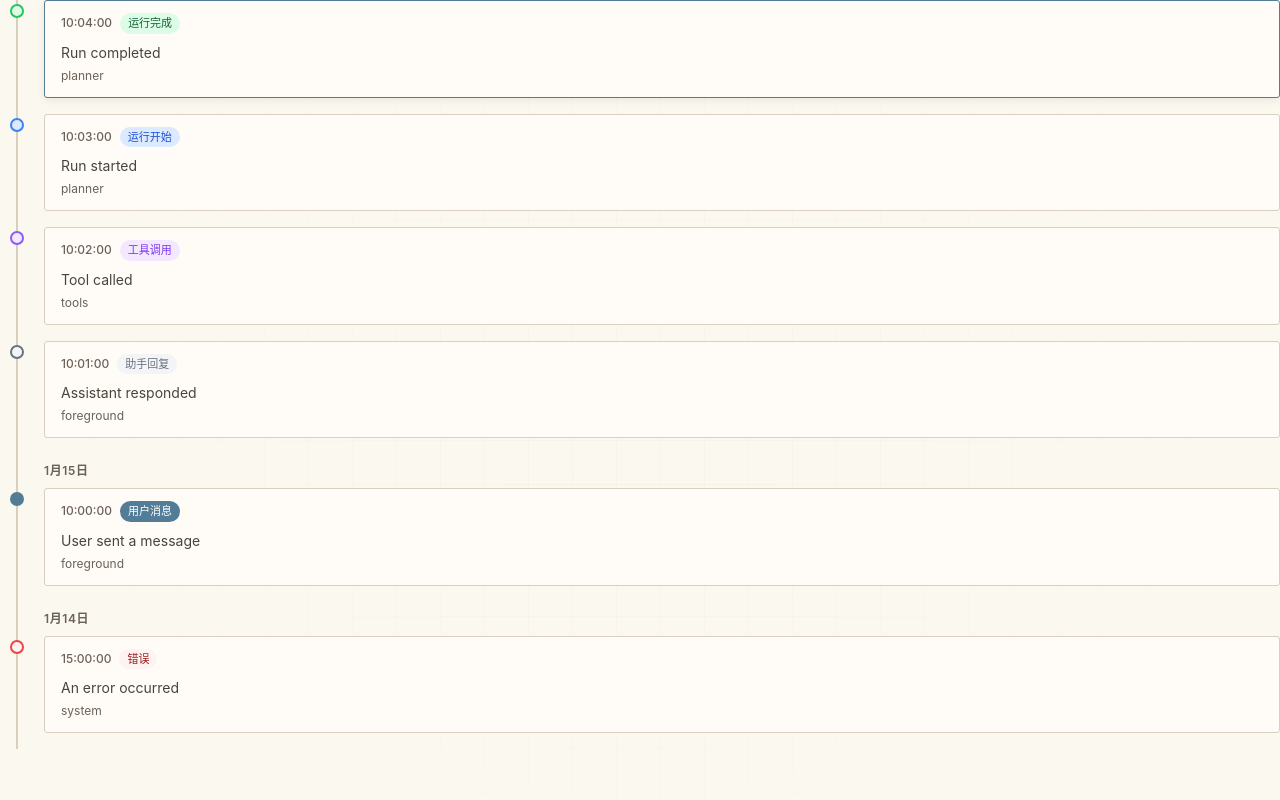
Test: TimelineView › expands event details when clicked
This screenshot has width=1280, height=800.
Click the button with test id "timeline-event-e1" at (640, 545), box [0,488,1279,602]
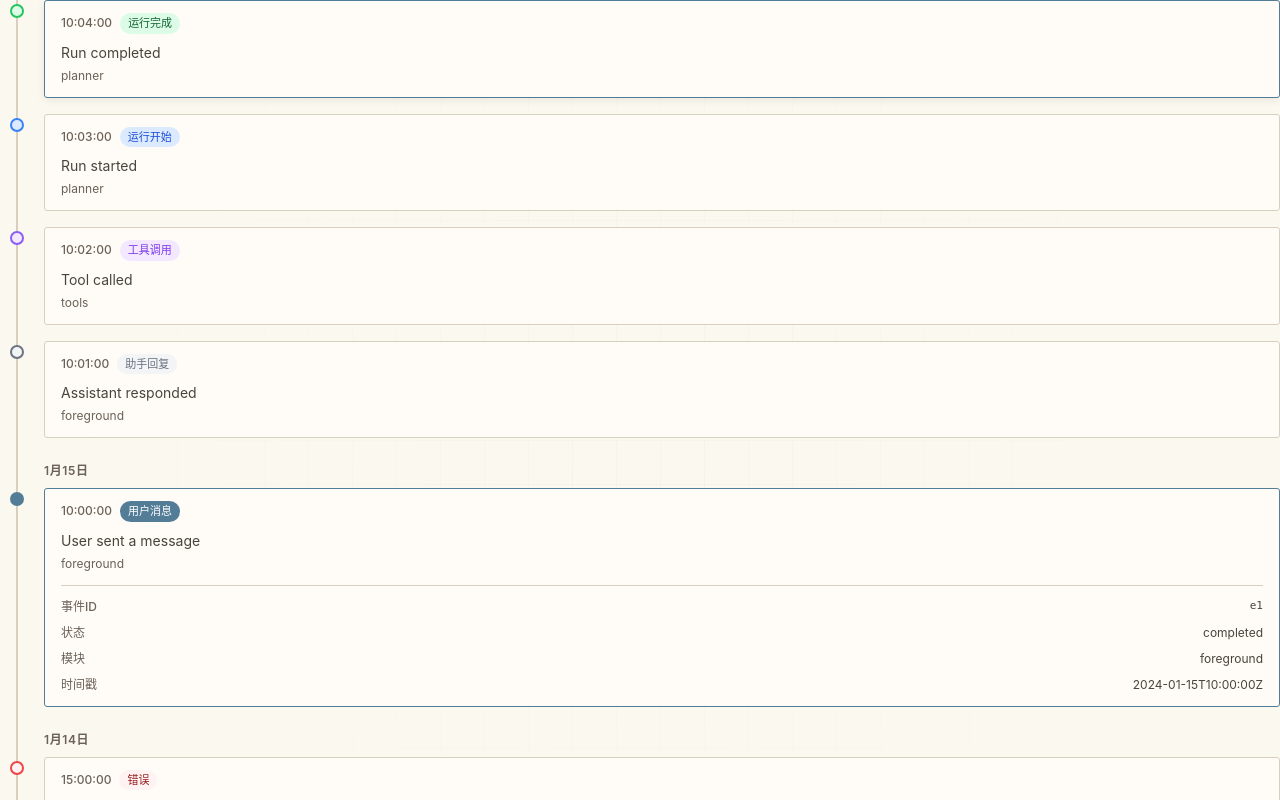
expect the text "事件ID" is shown: met, box [61,598,97,616]
expect the text "e1" is shown: met, box [1250,598,1263,616]
expect the text "状态" is shown: met, box [61,624,85,642]
